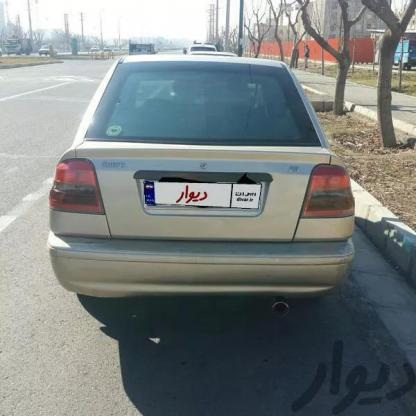Car: (43, 57, 358, 324), (113, 32, 171, 62), (380, 38, 416, 74), (171, 34, 222, 56)
